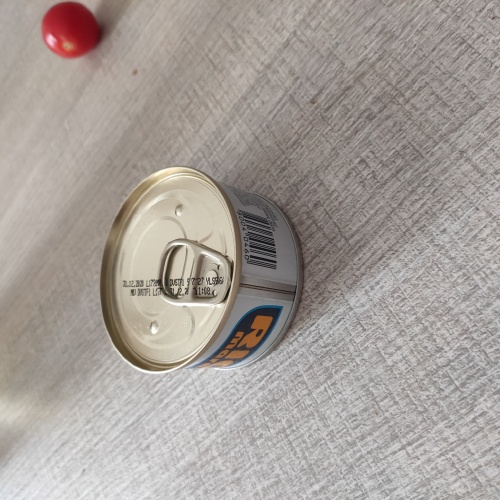pomodoro: (30, 6, 108, 62)
tonno: (95, 161, 320, 380)
